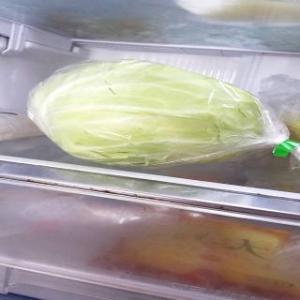cabbage: (24, 60, 286, 164)
